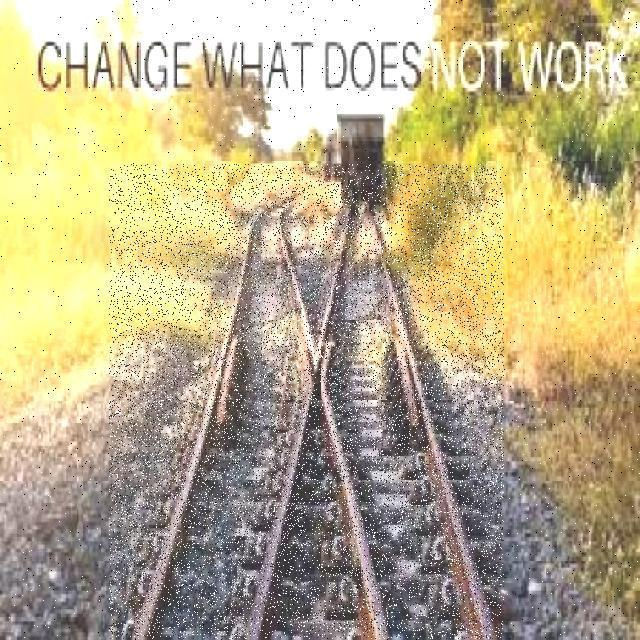rail: (109, 165, 504, 639)
